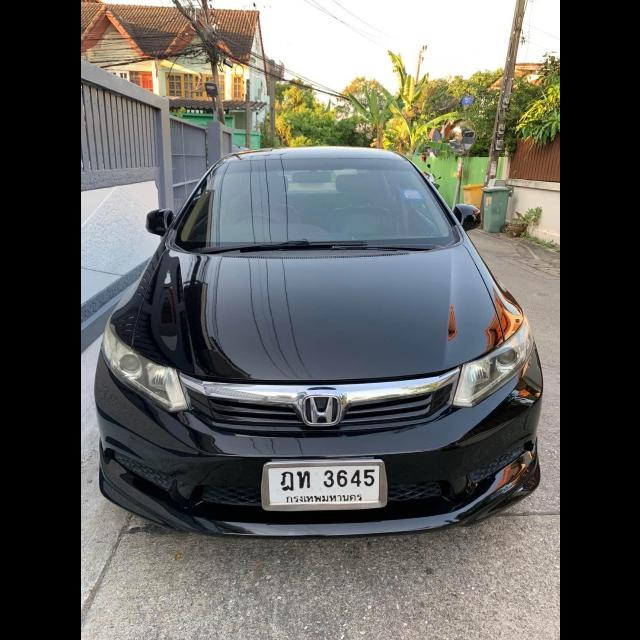cars: (88, 121, 550, 551)
